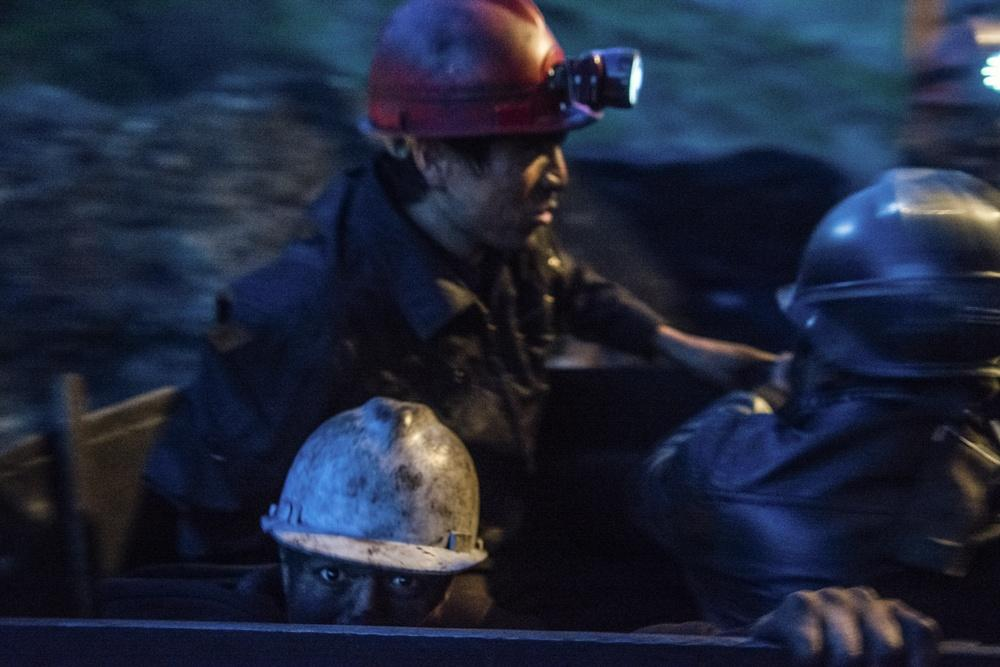Helmet: (274, 394, 486, 626)
